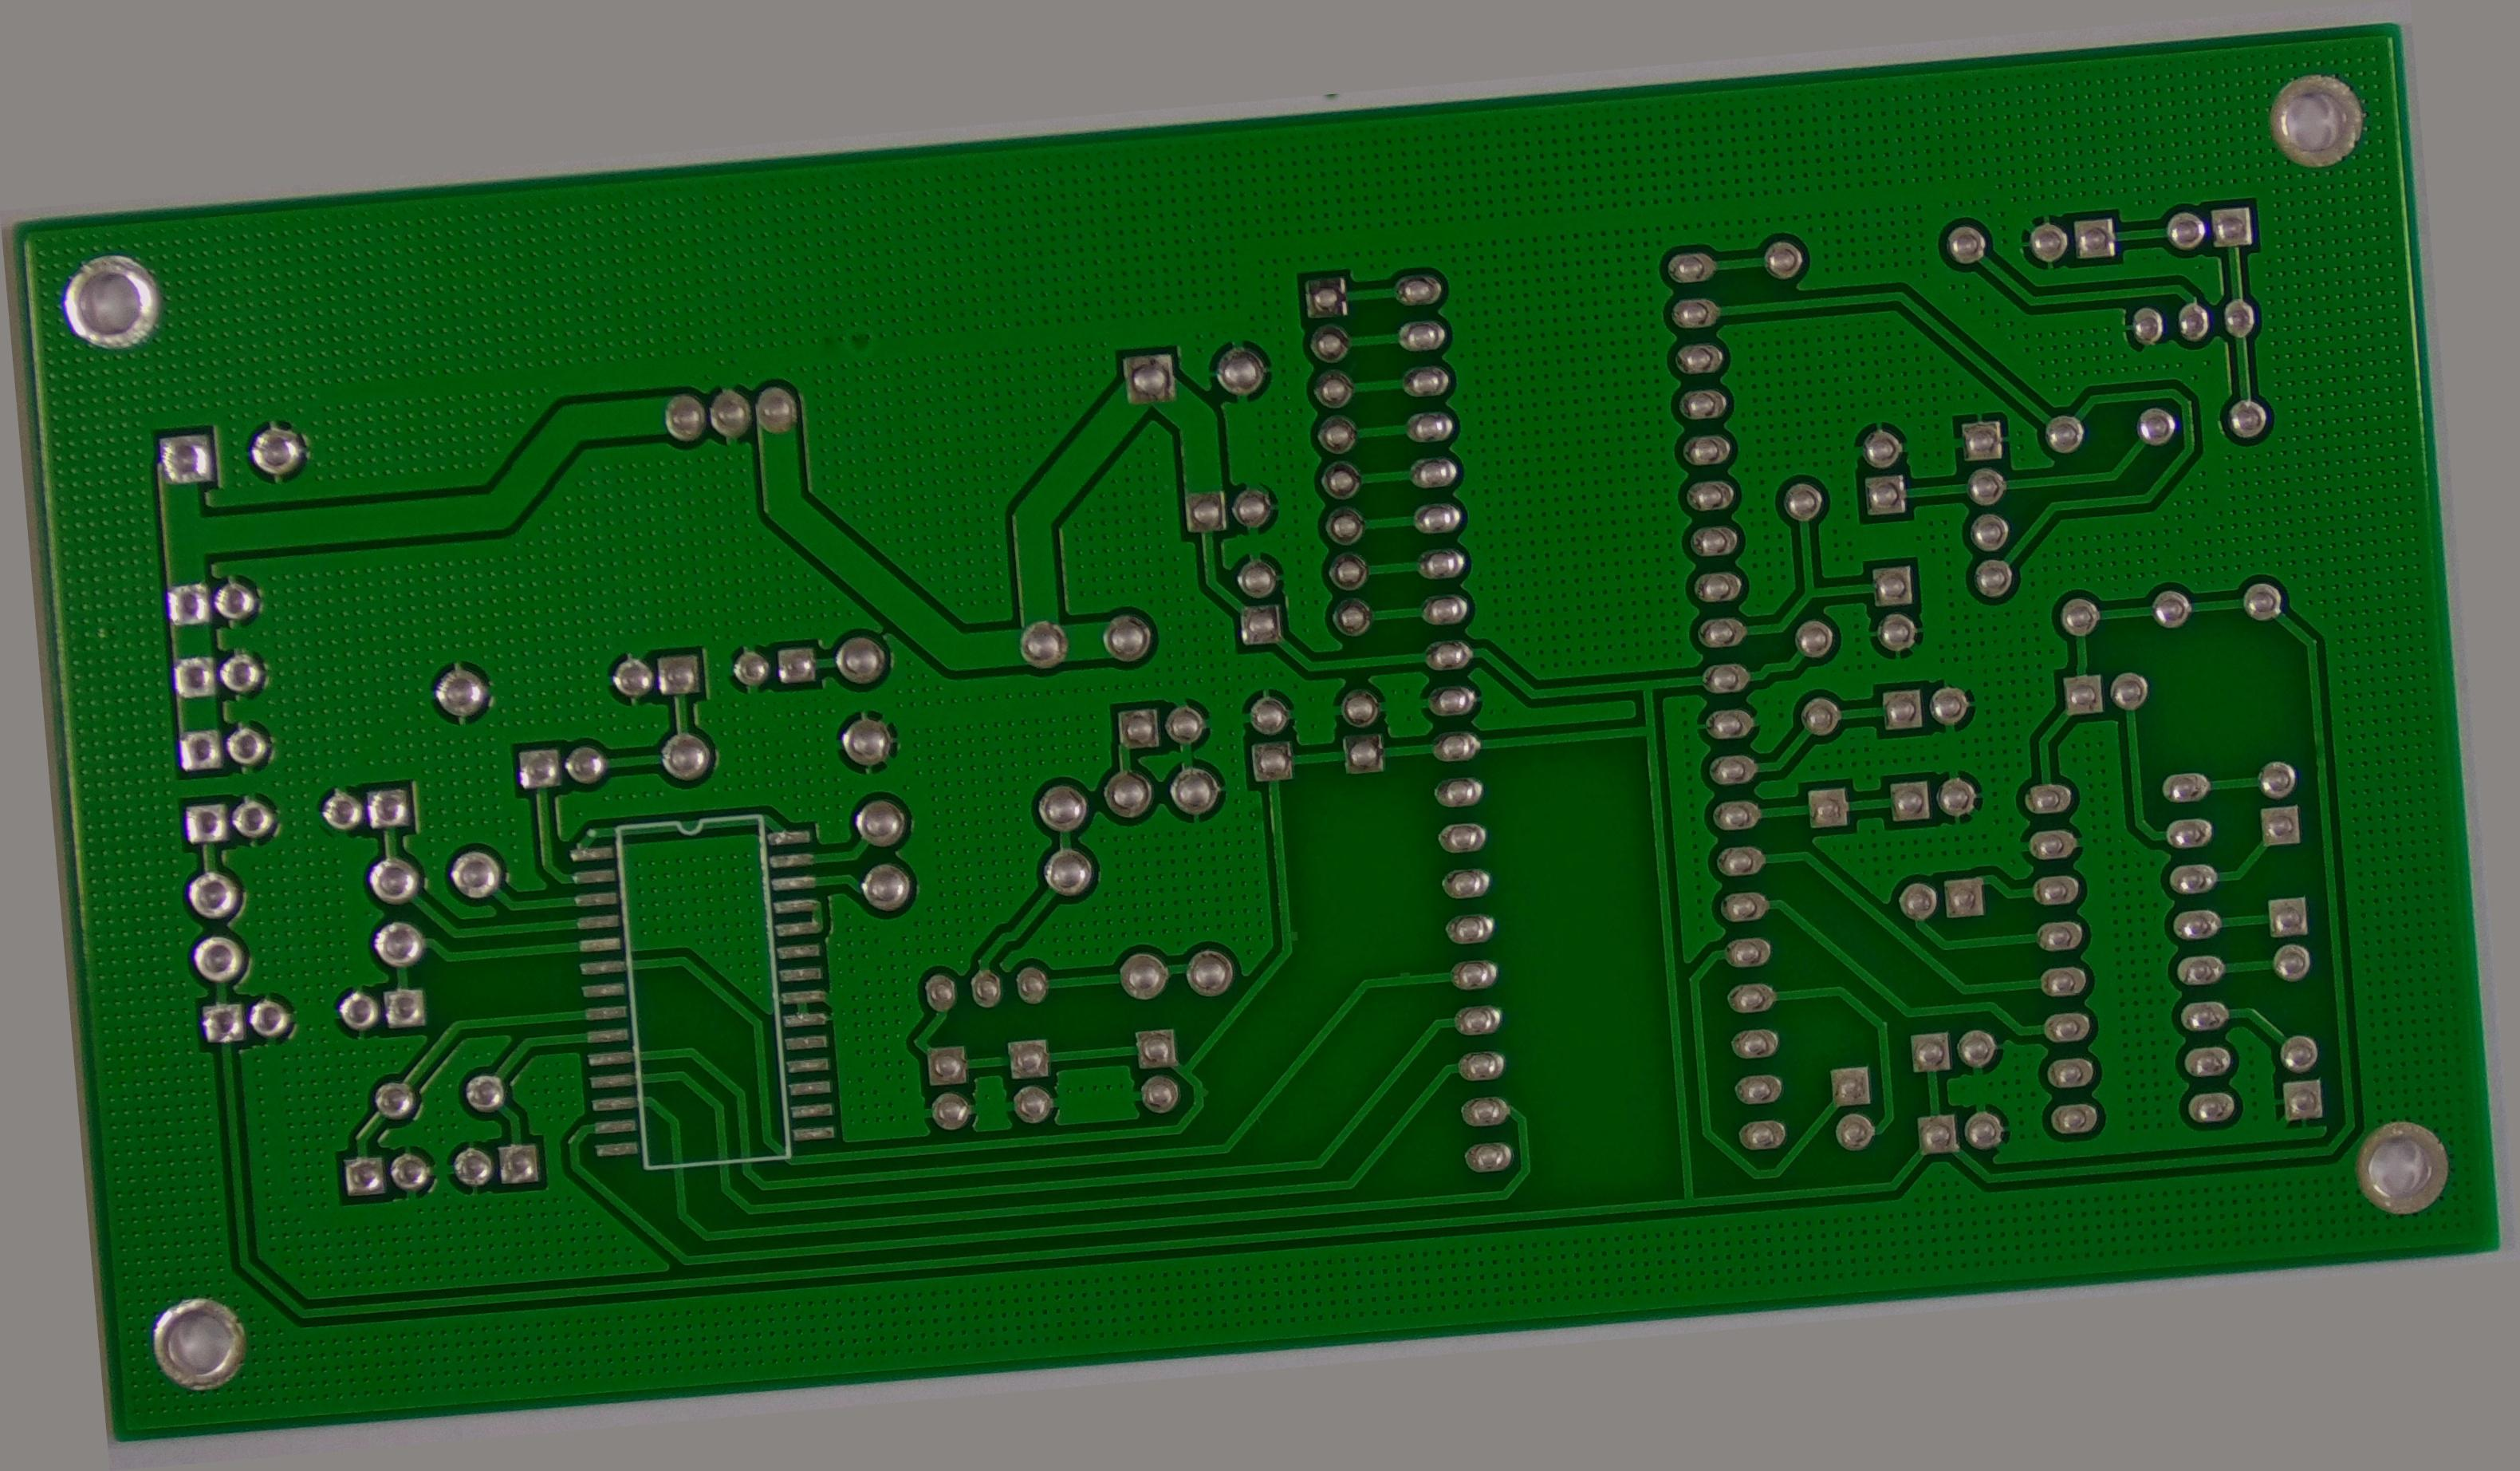spur: (1276, 921, 1304, 951), (1388, 960, 1419, 986)
